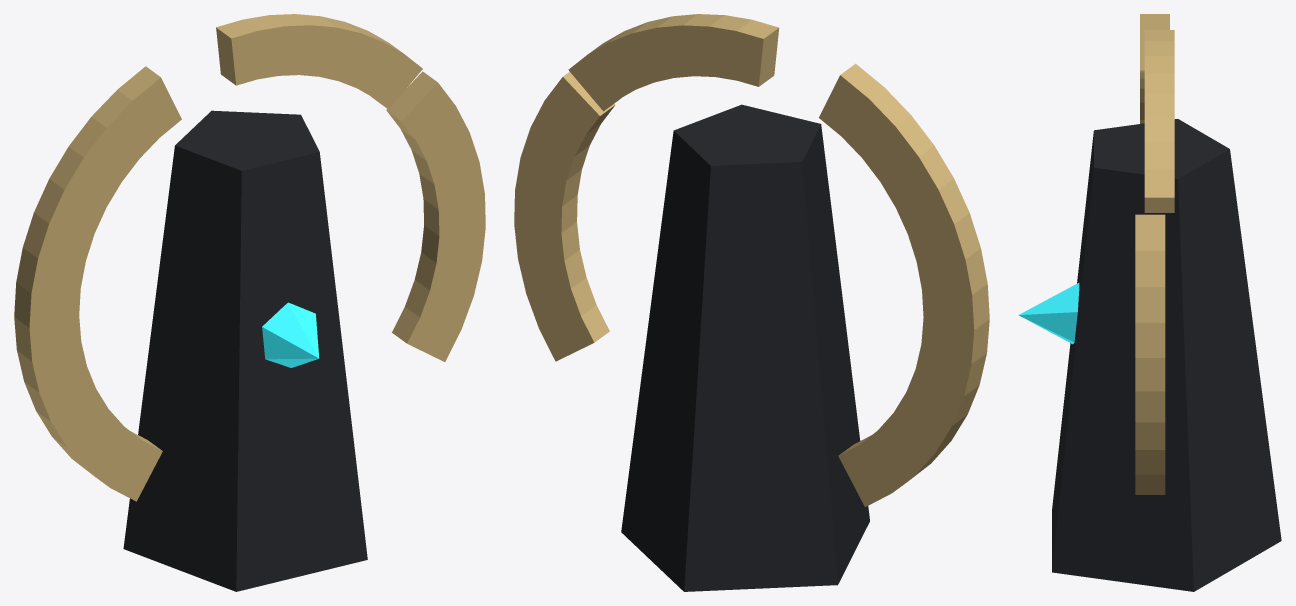
Rendered from BrokenHaloIdol.glb.
3 views of the same model, side by side, from view 1: azimuth 30°, elevation 25°; view 2: azimuth 150°, elevation 25°; view 3: azimuth 270°, elevation 25° (orthographic). The views are drawn at different scales.
Visible parts, largest first — view 1: BrokenHaloIdol; view 2: BrokenHaloIdol; view 3: BrokenHaloIdol.
Part boxes in pixels (left/top/right/bottom): BrokenHaloIdol: left=14, top=14, right=485, bottom=591; BrokenHaloIdol: left=514, top=14, right=989, bottom=591; BrokenHaloIdol: left=1018, top=14, right=1281, bottom=591.
Bounding box in the file's own units: 0.5477 × 0.588 × 0.2801.
